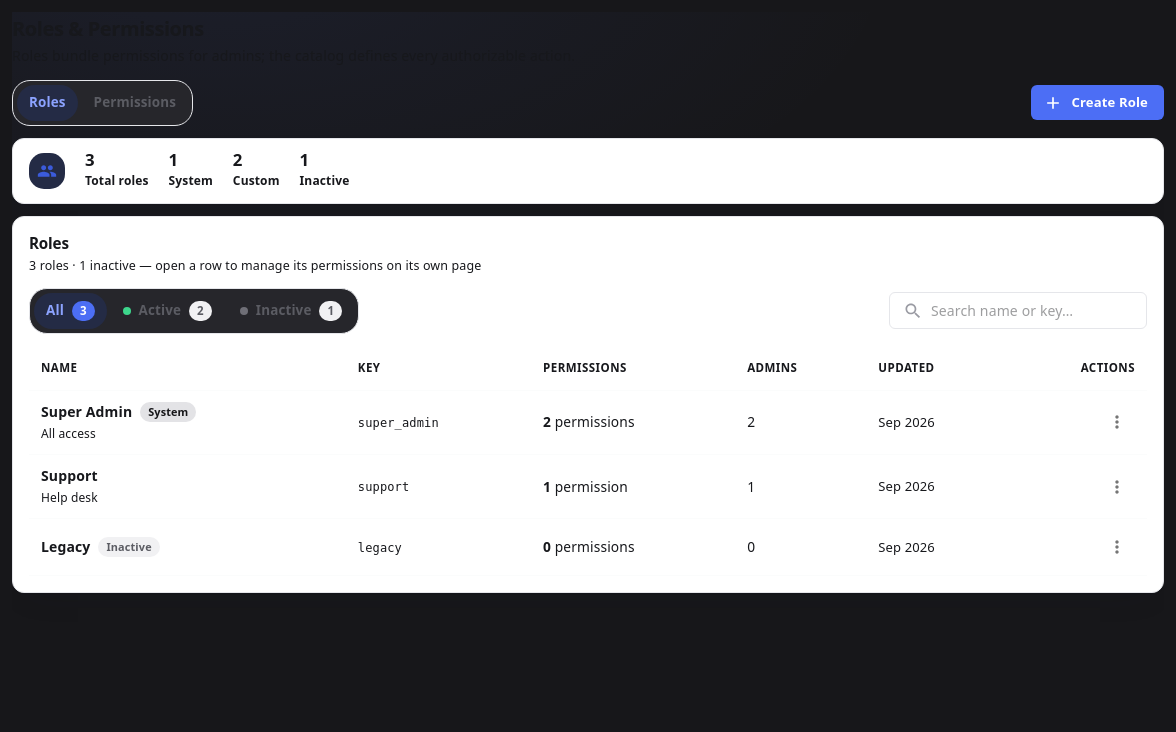
Test: RolesView (live RBAC wiring) › status filter and search narrow the table
Expected: the text "Support" is shown, top-left (41, 465), bottom-right (98, 487)
Click the button "Inactive 1": coordinates (291, 311) top-left (228, 293), bottom-right (354, 329)
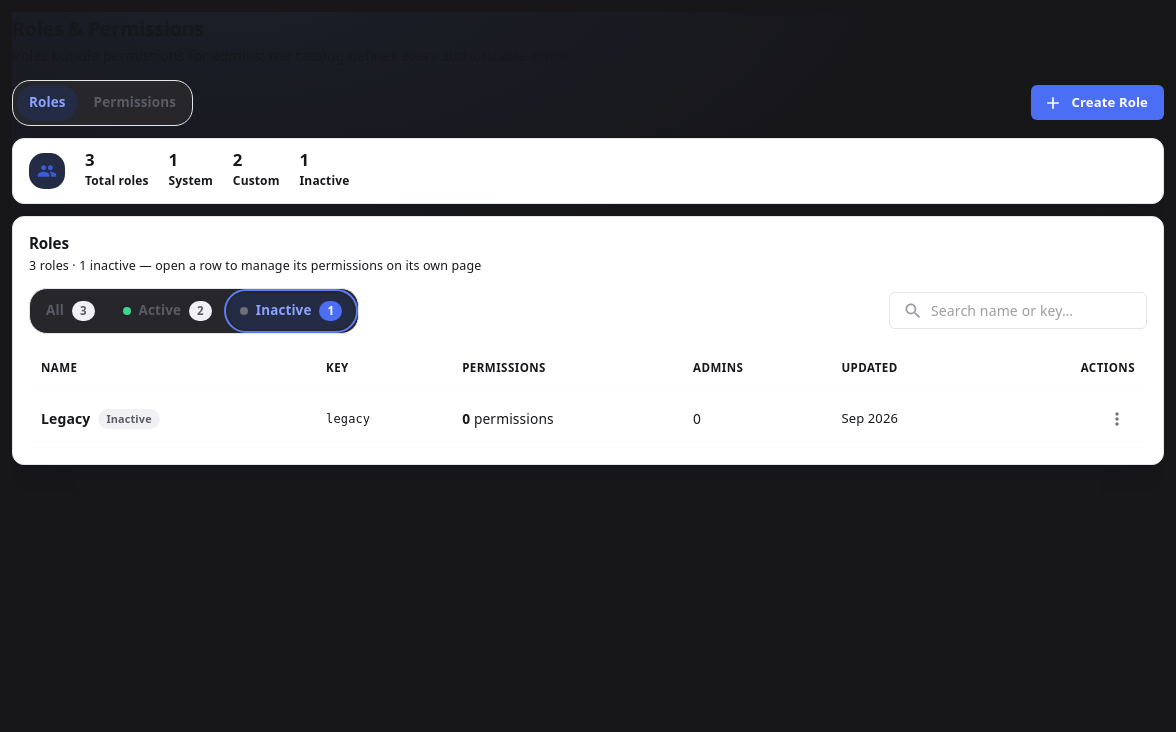
Expected: the text "Legacy" is shown, top-left (41, 408), bottom-right (90, 430)
Result: the text "Support" is gone
Click the button "All 3": coordinates (70, 311) top-left (34, 293), bottom-right (107, 329)
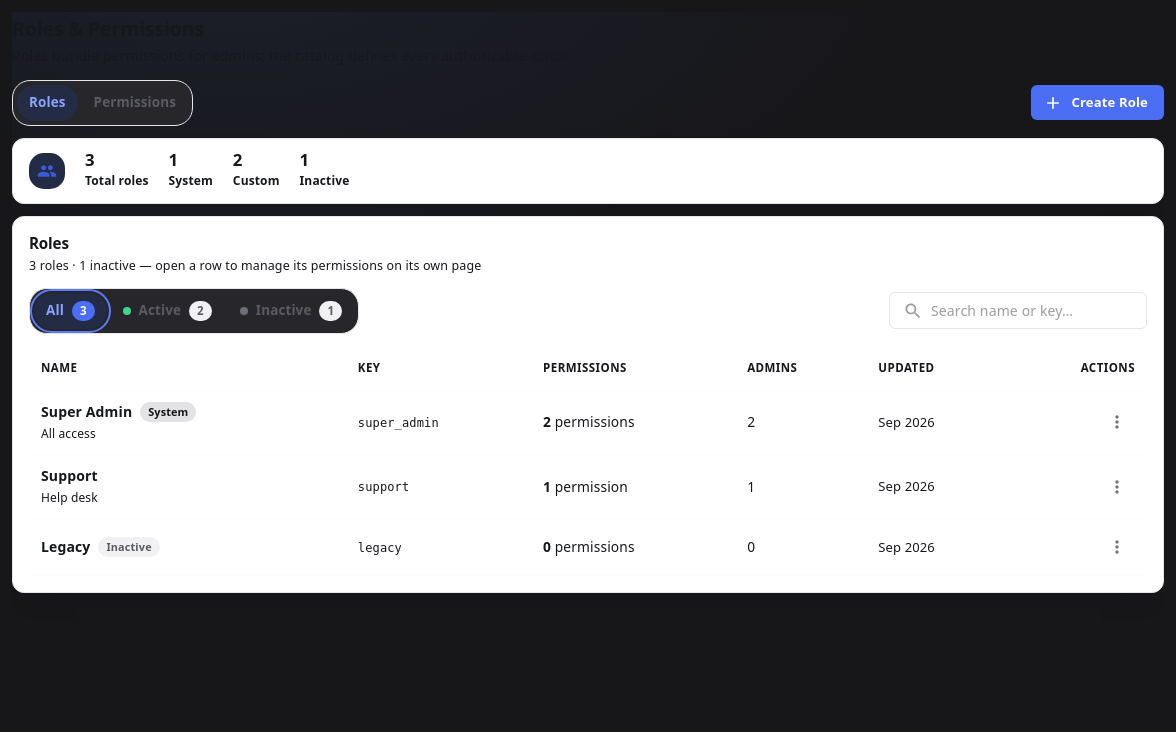
In the search field named "Search roles": coordinates (1039, 311) top-left (931, 292), bottom-right (1147, 329), type "sup"
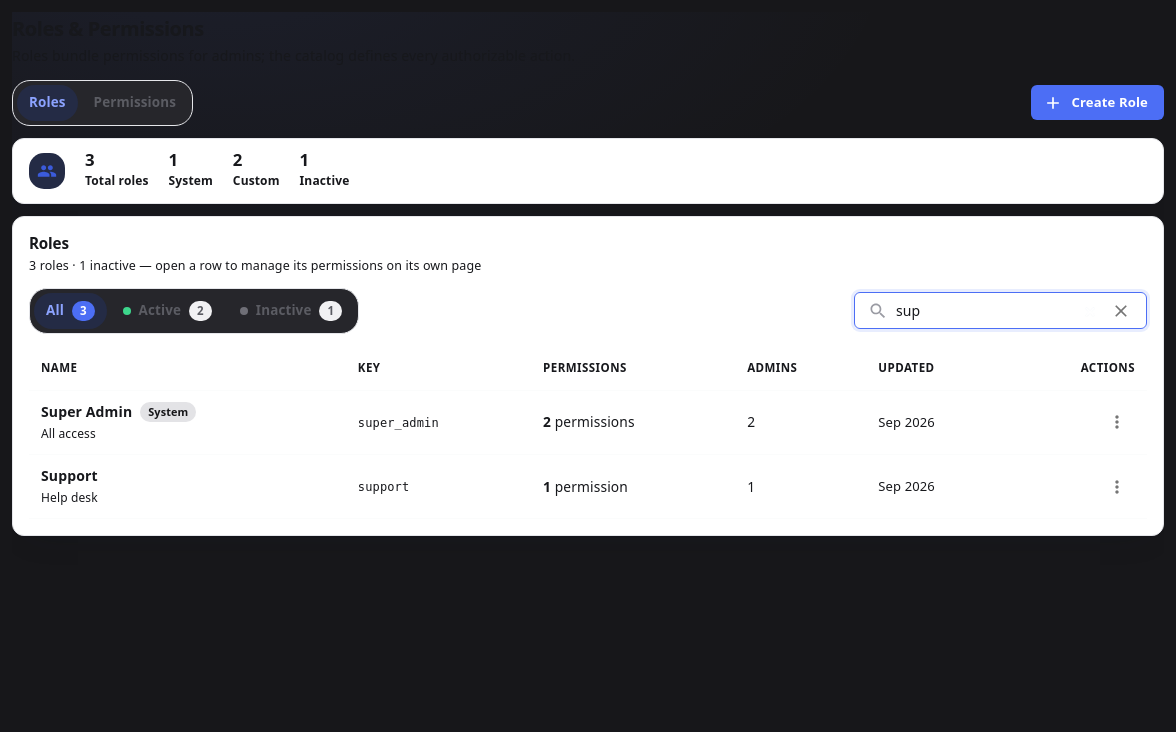
Result: the text "Support" is shown at top-left (41, 465), bottom-right (98, 487)
Result: the text "Legacy" is gone
